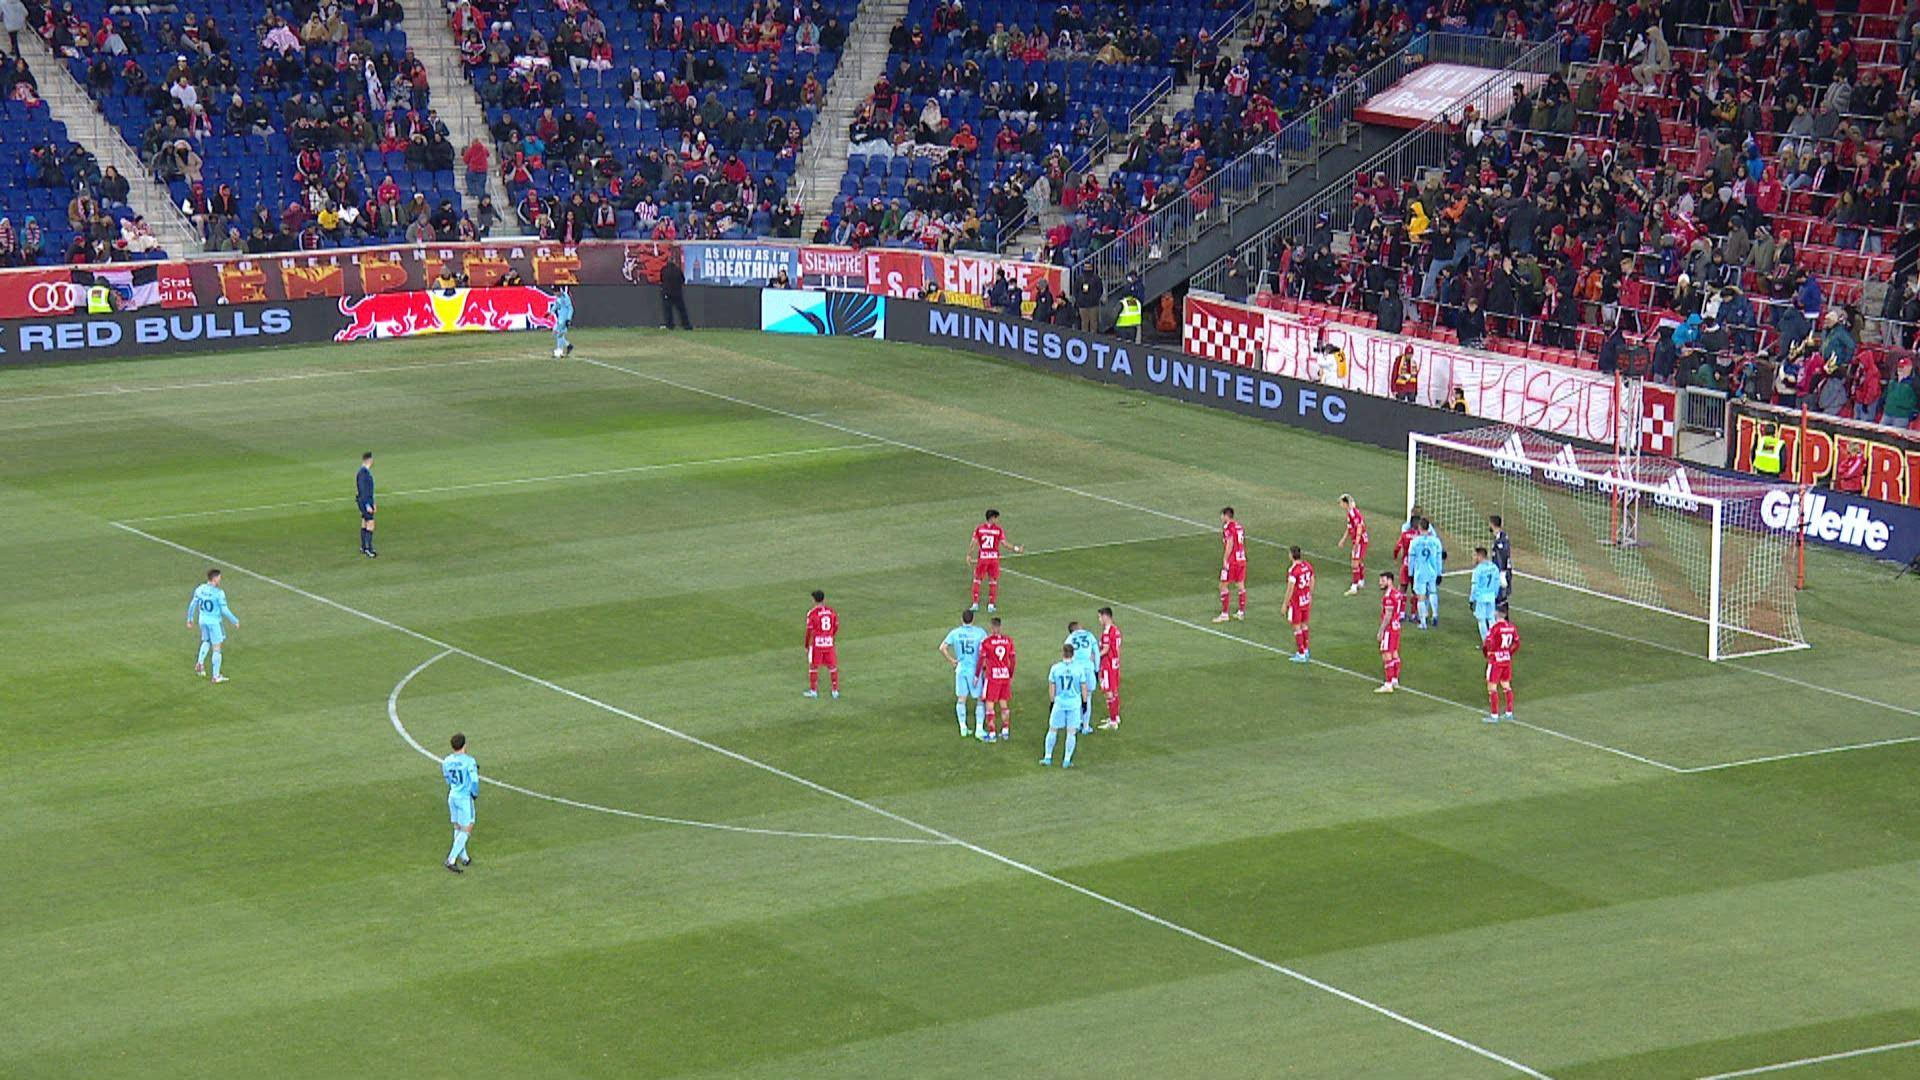football: (554, 349, 562, 357)
